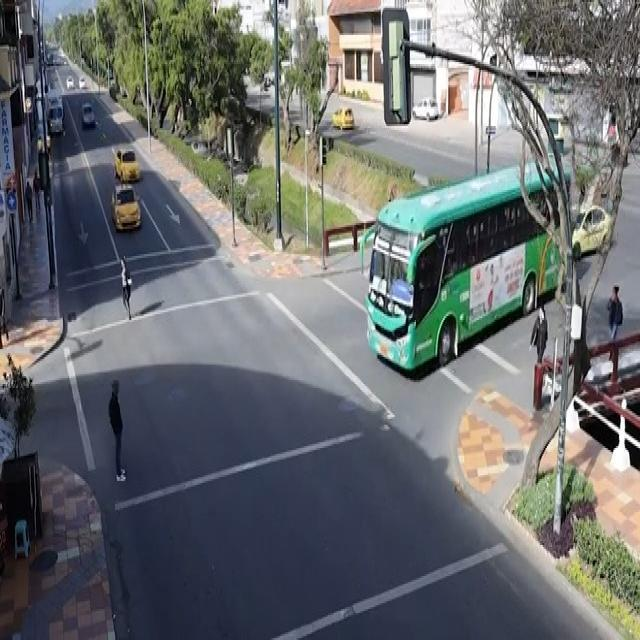BUS: (364, 164, 568, 376)
